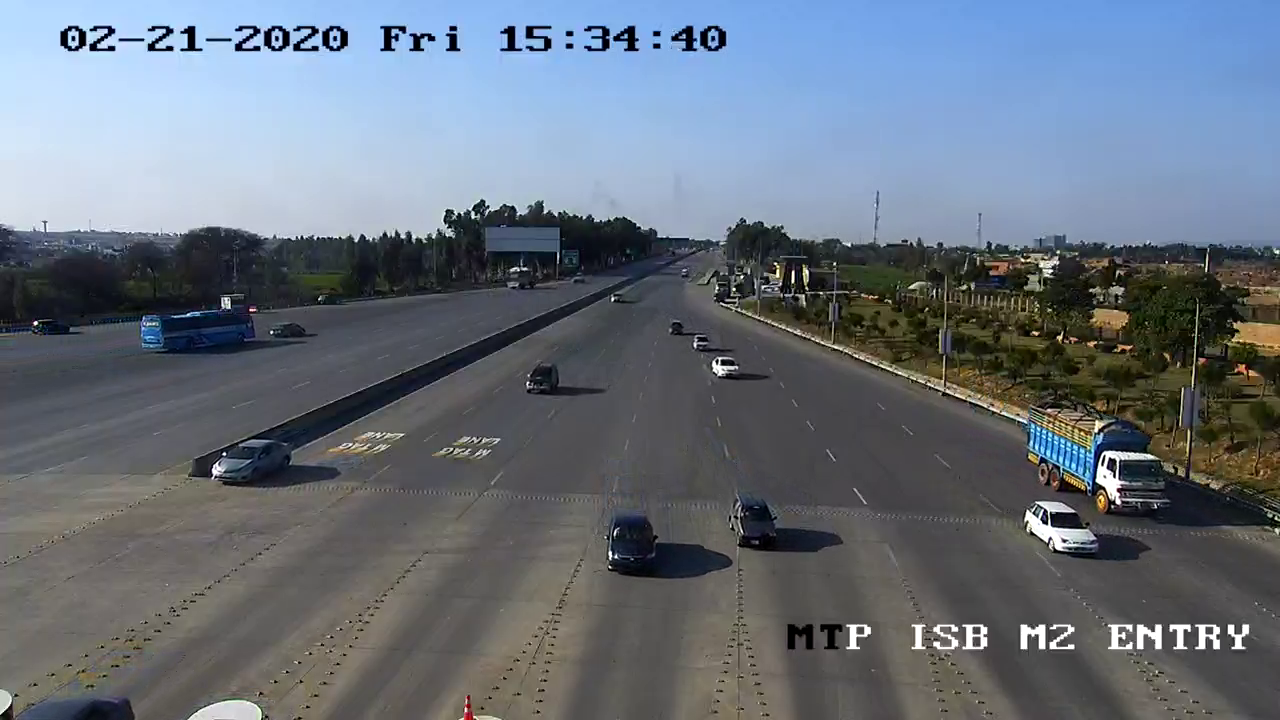f1: (202, 429, 309, 498), (1009, 486, 1103, 563), (595, 497, 668, 591), (720, 487, 789, 561), (517, 354, 565, 406)
f5: (1022, 395, 1186, 520)
